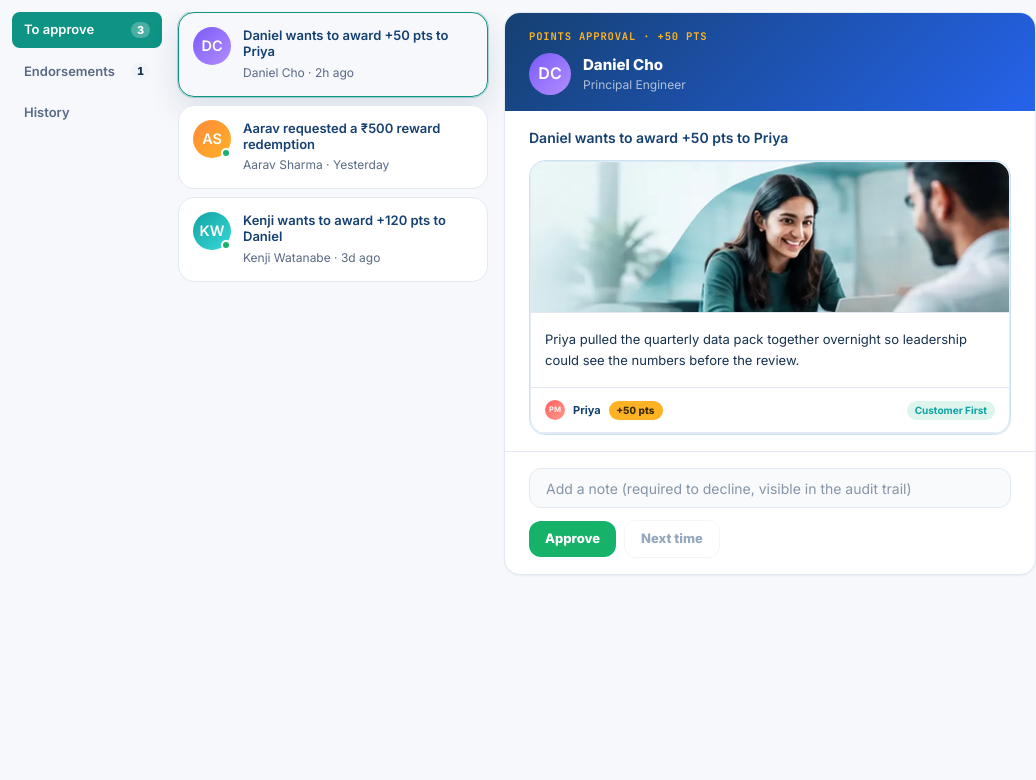
Test: ApprovalsBoard › switching to endorsements shows only the endorsement request
Click the button "Endorsements 1" at (87, 71), box [12,54,162,89]
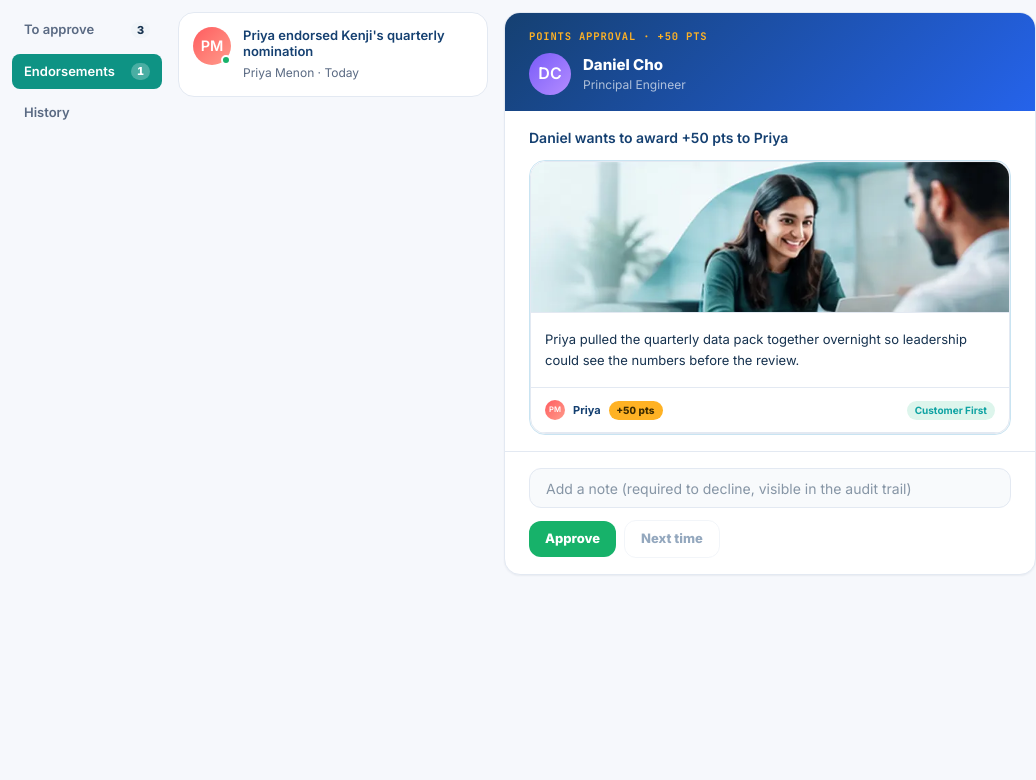
Now the text "Priya endorsed Kenji's quarterly nomination" is shown, box [243,27,473,60]
Now the button "Aarav requested a ₹500 reward redemption" is gone
